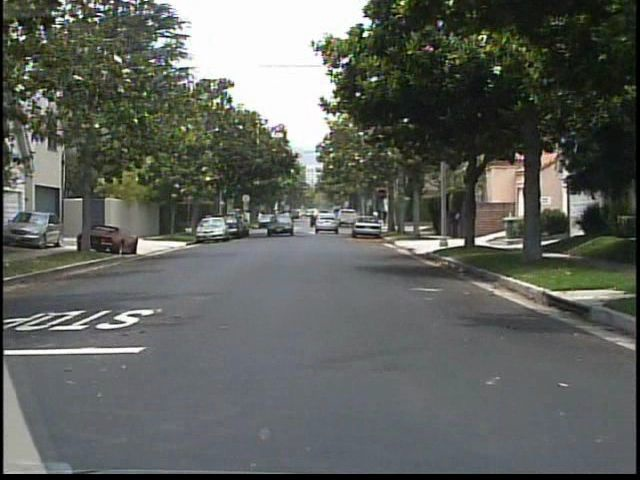person: (444, 200, 463, 242), (203, 209, 216, 233)
